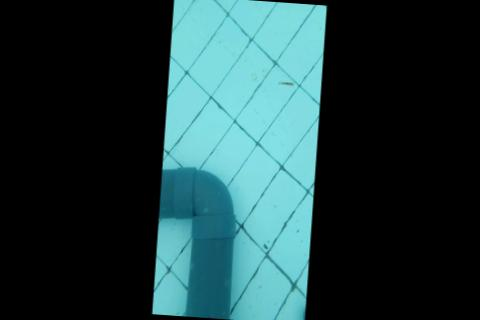kebocoran: (205, 315, 213, 318)
